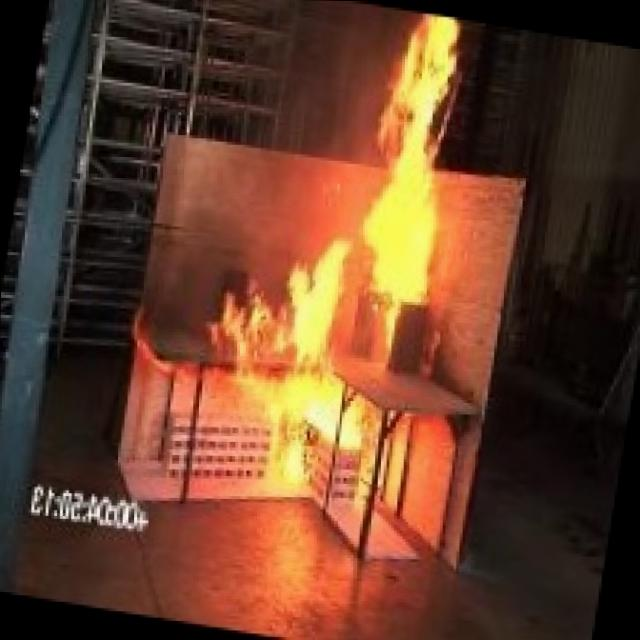fire: (198, 0, 507, 529)
